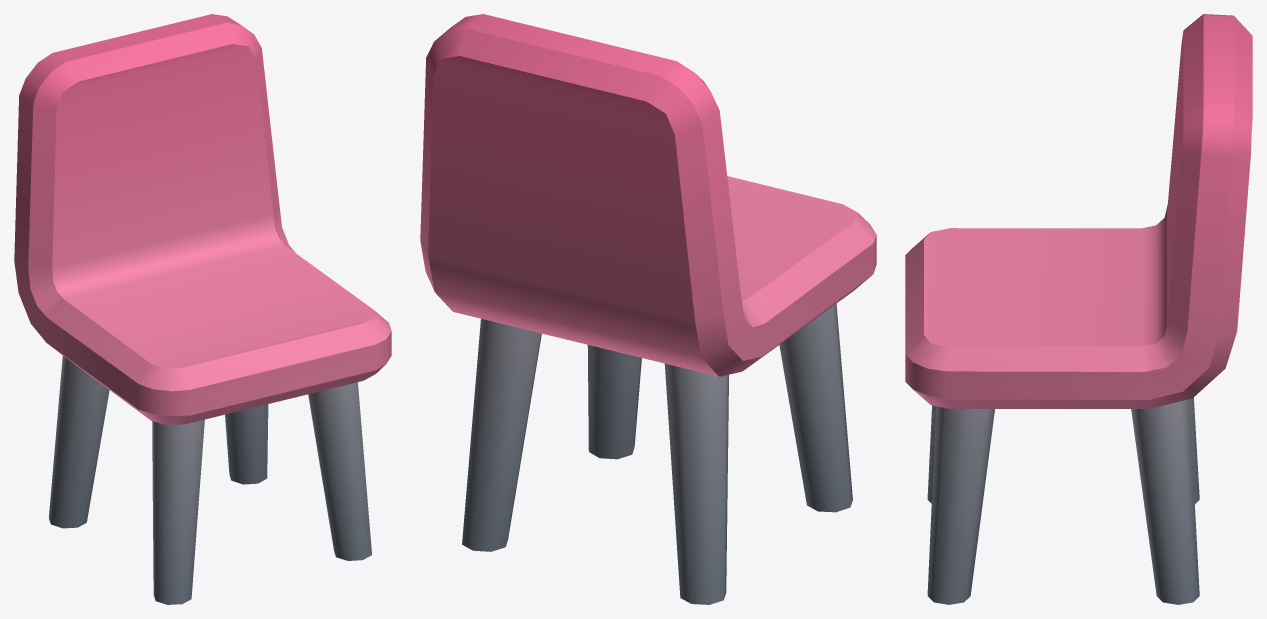
The model's file is Chair_2_F.glb.
3 views of the same model, side by side, from view 1: azimuth 30°, elevation 25°; view 2: azimuth 150°, elevation 25°; view 3: azimuth 270°, elevation 25° (orthographic). The views are drawn at different scales.
Parts seen in each view (by area): view 1: Chair_2_F; view 2: Chair_2_F; view 3: Chair_2_F.
Boxes of the visible parts, x1=… form: Chair_2_F: x1=14, y1=14, x2=391, y2=604; Chair_2_F: x1=420, y1=14, x2=876, y2=604; Chair_2_F: x1=905, y1=14, x2=1252, y2=604.
Bounding box in the file's own units: 0.5407 × 0.9189 × 0.5902.
Materials: 2 (2 with a texture image).
